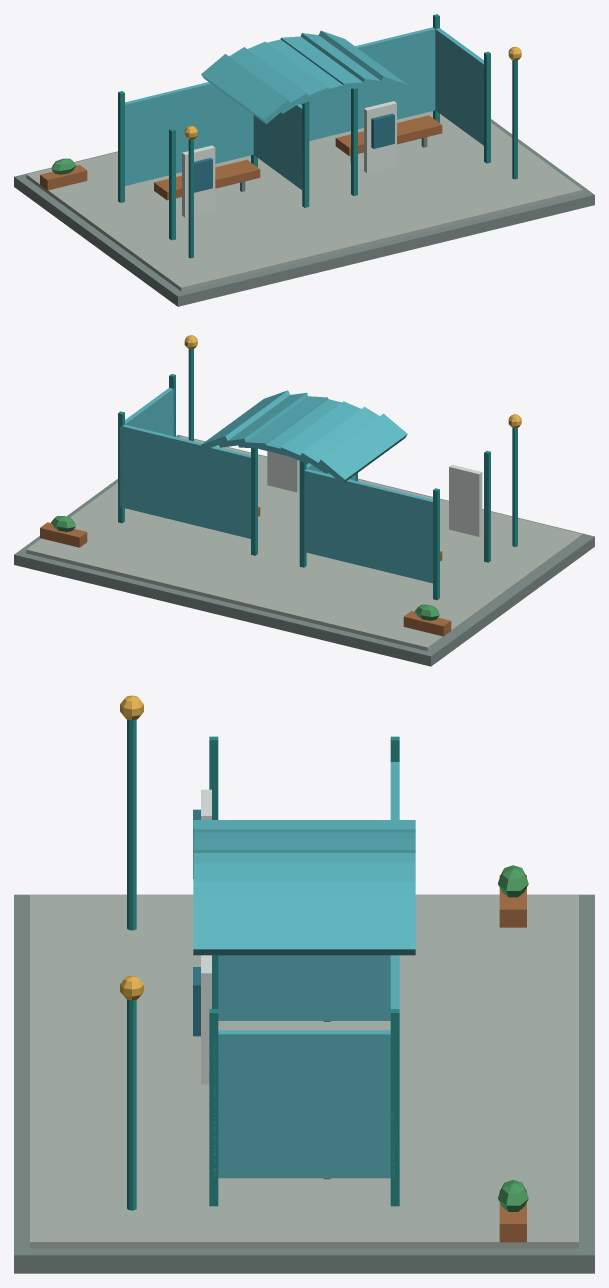
The model's file is bus_stop_lv2.glb.
3 views of the same model, one above another, from view 1: azimuth 30°, elevation 25°; view 2: azimuth 150°, elevation 25°; view 3: azimuth 270°, elevation 25° (orthographic). The views are drawn at different scales.
Visible parts, largest first — view 1: concrete, glass, pavement, teal, wood, white, glassDark; view 2: concrete, glass, pavement, teal, white, wood, green; view 3: concrete, glass, pavement, teal, wood, white, green, gold.
Part boxes in pixels (x1,y1,x2,y2): concrete: (26, 111, 582, 291); glass: (125, 27, 484, 190); pavement: (14, 119, 594, 306); teal: (118, 14, 517, 258); wood: (40, 115, 442, 200); white: (182, 101, 396, 217); glassDark: (194, 113, 394, 192); concrete: (26, 436, 582, 651); glass: (120, 388, 434, 583); pavement: (14, 435, 594, 666); teal: (118, 349, 517, 600); white: (267, 451, 482, 536); wood: (40, 506, 451, 636); green: (51, 516, 439, 620); concrete: (30, 895, 578, 1248); glass: (193, 762, 415, 1178); pavement: (14, 894, 594, 1273); teal: (127, 719, 399, 1210); wood: (499, 875, 526, 1242); white: (201, 789, 211, 1084); green: (498, 865, 528, 1211); gold: (120, 695, 143, 1000).
Bounding box in the file's own units: 9.4 × 3.12 × 6.4.
